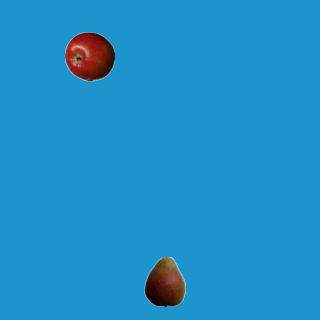Apple Braeburn: (64, 31, 114, 81)
Pear Forelle: (139, 256, 189, 306)
